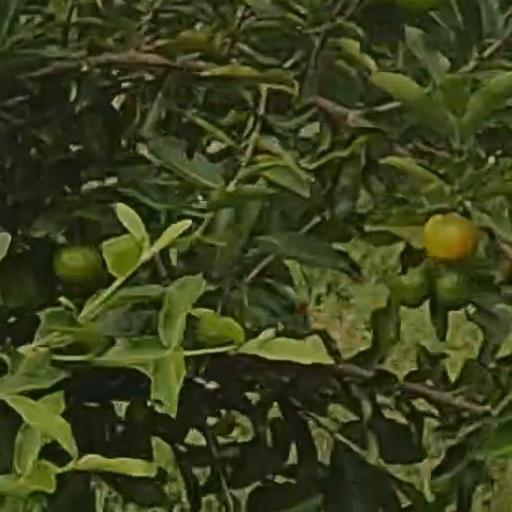acerola_verde: (53, 246, 103, 284), (392, 266, 431, 304), (437, 272, 473, 309)
acerola_vermelha: (428, 216, 475, 261)
